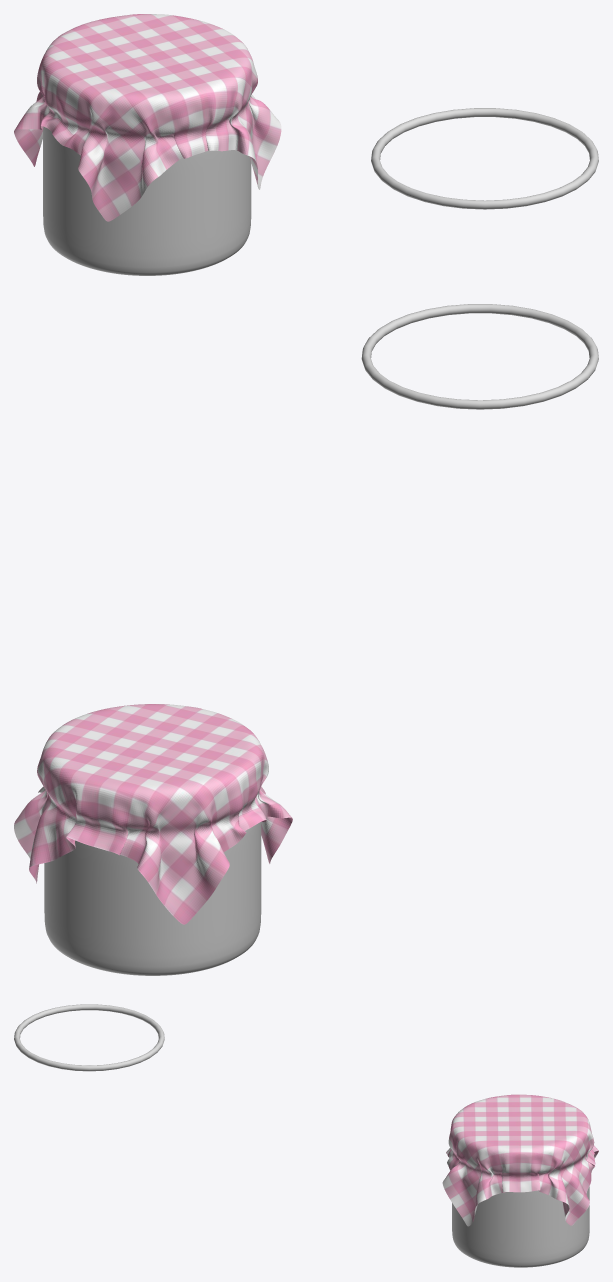
Rendered from jam-orange.fbx.
3 views of the same model, one above another, from view 1: azimuth 30°, elevation 25°; view 2: azimuth 150°, elevation 25°; view 3: azimuth 270°, elevation 25° (orthographic). The views are drawn at different scales.
Visible parts, largest first — view 1: Plane.002, jar.002, Torus.002; view 2: Plane.002, jar.002, Torus.002; view 3: Plane.002, jar.002, Torus.002.
Boxes of the visible parts, x1,y1,x2,y2 form: Plane.002: (14,14,281,221); jar.002: (43,127,251,275); Torus.002: (371,108,598,209); Plane.002: (14,704,292,924); jar.002: (44,822,261,975); Torus.002: (361,304,598,409); Plane.002: (442,1094,598,1226); jar.002: (452,1186,589,1267); Torus.002: (14,1004,164,1071).
Bounding box in the file's own units: 486 × 692 × 1749.
